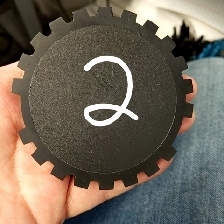gear: (10, 5, 195, 192)
missing: (159, 100, 195, 163), (9, 75, 37, 145)
